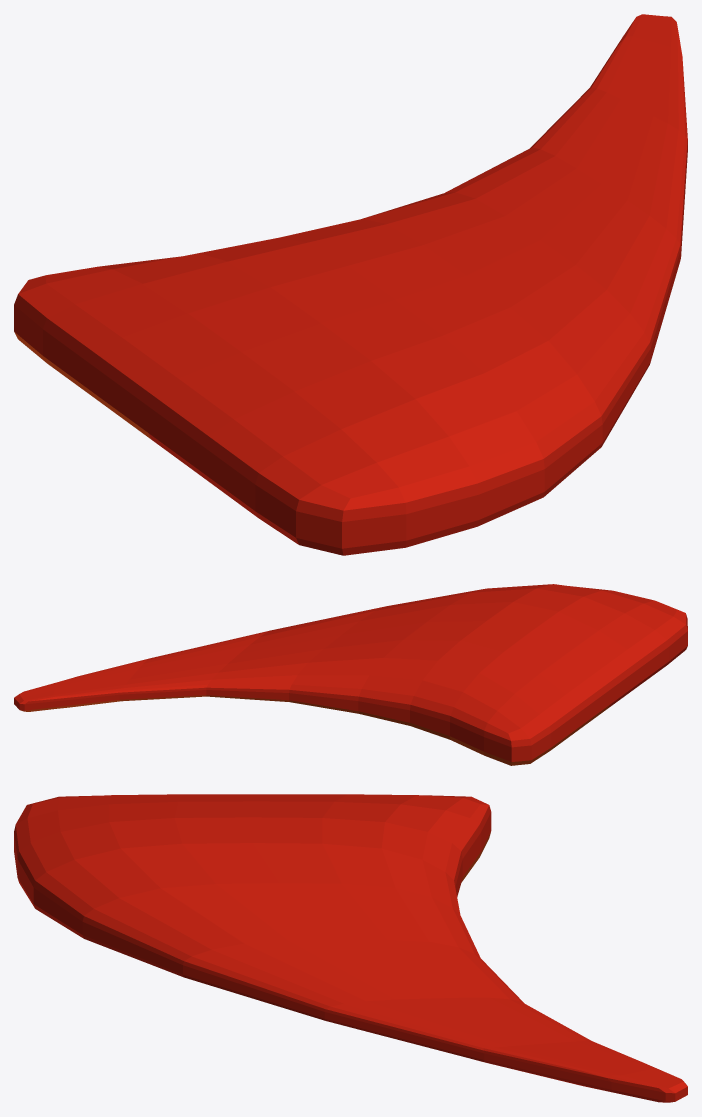
Rendered from pteranodon_wing_l.mtl.obj.
3 views of the same model, one above another, from view 1: azimuth 30°, elevation 25°; view 2: azimuth 150°, elevation 25°; view 3: azimuth 270°, elevation 25° (orthographic). The views are drawn at different scales.
Parts seen in each view (by area): view 1: Wing_left; view 2: Wing_left; view 3: Wing_left.
Boxes of the visible parts, bbox=[...] form: Wing_left: bbox=[14, 14, 687, 555]; Wing_left: bbox=[14, 584, 687, 765]; Wing_left: bbox=[14, 794, 687, 1102].
Bounding box in the file's own units: 5.08 × 0.5795 × 5.06.
